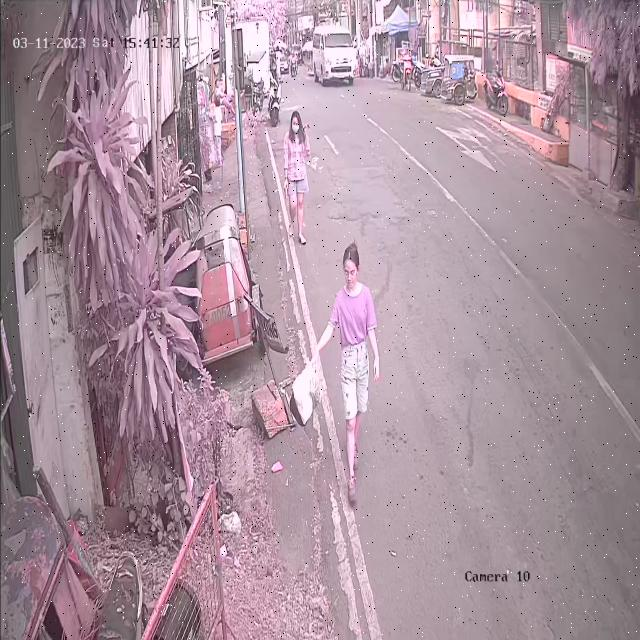garbage_dumping: (285, 350, 321, 438)
